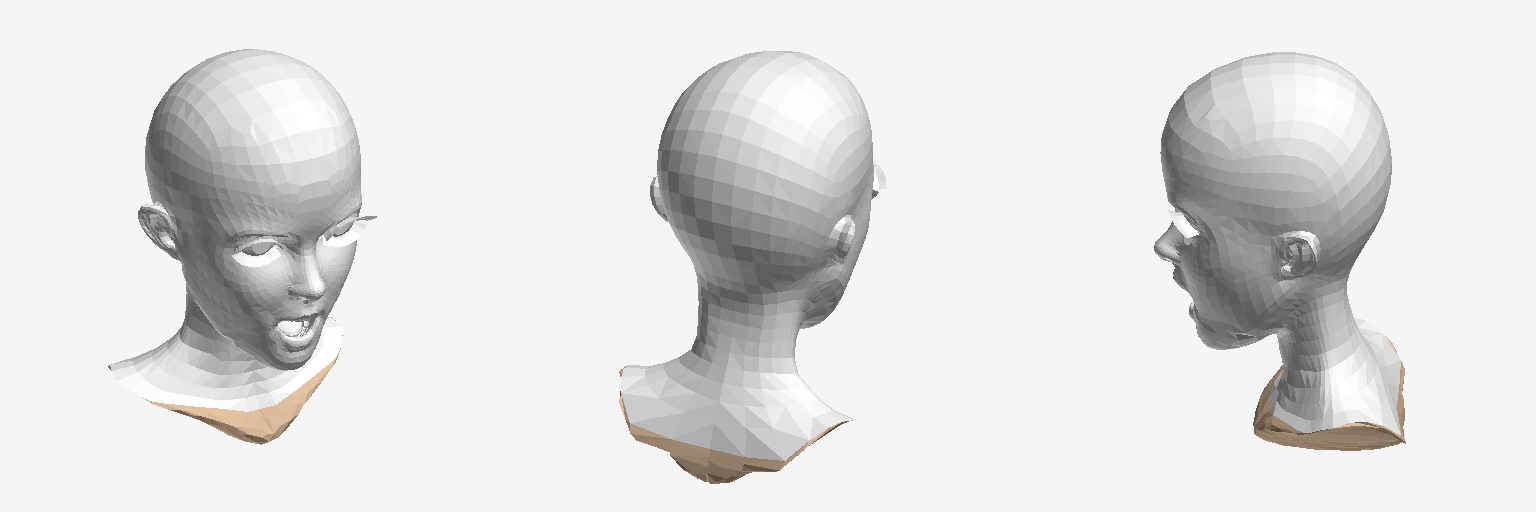
The picture shows the model from 3 angles: view 1: azimuth 30°, elevation 25°; view 2: azimuth 150°, elevation 25°; view 3: azimuth 270°, elevation 25°; orthographic projection.
Visible parts, largest first — view 1: Body, Eyelashes; view 2: Body; view 3: Body.
Part boxes in pixels (bbox=[...]): Body: bbox=[110, 49, 361, 411]; Eyelashes: bbox=[232, 216, 376, 266]; Body: bbox=[621, 51, 873, 460]; Body: bbox=[1154, 52, 1400, 434].
Size of the model in its own units: 23 by 37.41 by 22.09.